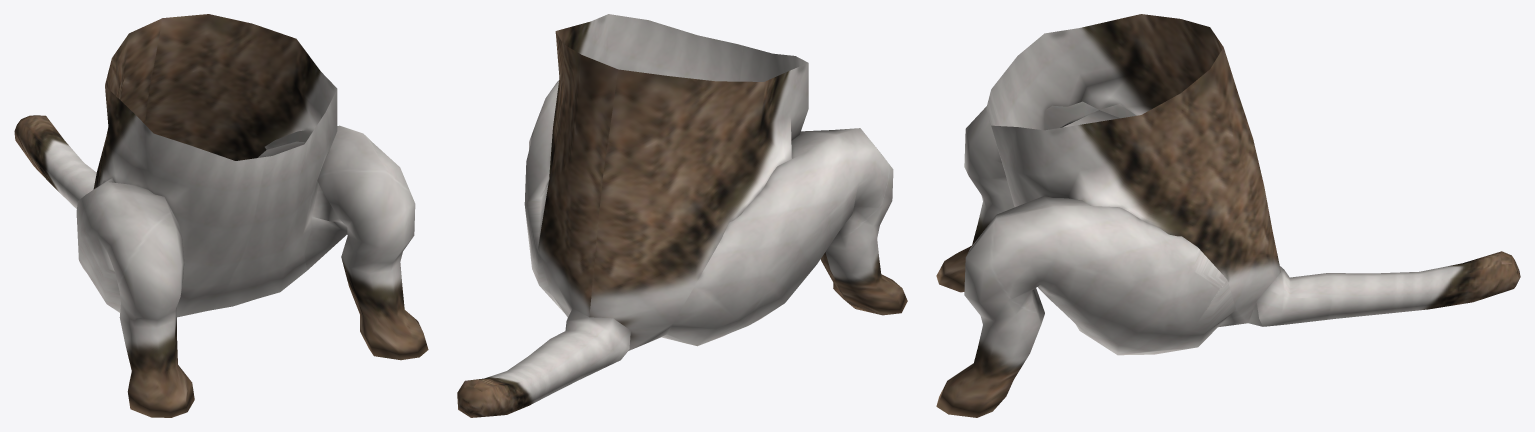
File: neko_buttom 1.fbx
The picture shows the model from 3 angles, left to right: view 1: azimuth 30°, elevation 25°; view 2: azimuth 150°, elevation 25°; view 3: azimuth 270°, elevation 25°; orthographic projection. The views are drawn at different scales.
Visible parts, largest first — view 1: polySurface3Shape3; view 2: polySurface3Shape3; view 3: polySurface3Shape3.
Boxes of the visible parts, left/top/right/bottom form: polySurface3Shape3: left=14, top=14, right=428, bottom=417; polySurface3Shape3: left=457, top=14, right=907, bottom=417; polySurface3Shape3: left=936, top=14, right=1520, bottom=417.
Size of the model in its own units: 15.42 by 13.72 by 24.68.
